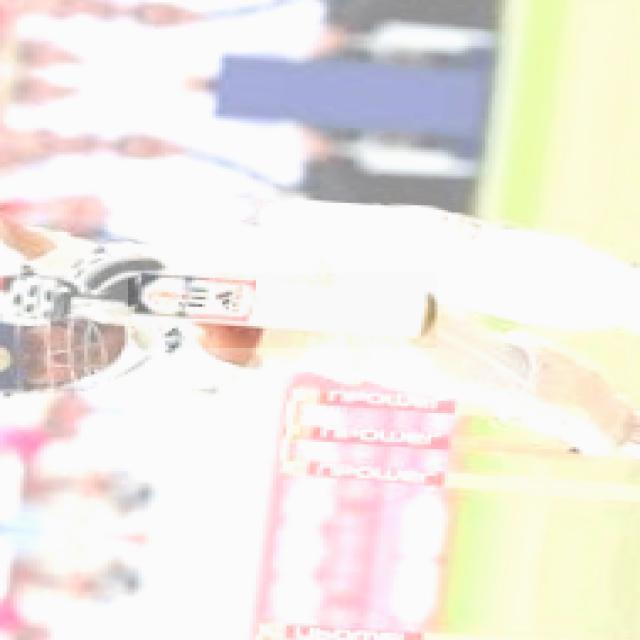bat: (115, 273, 441, 344)
toe: (422, 287, 435, 339)
